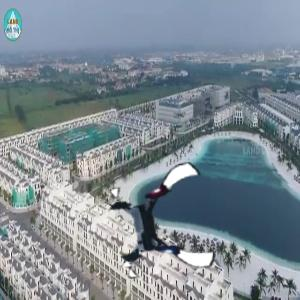drone: (108, 166, 219, 277)
